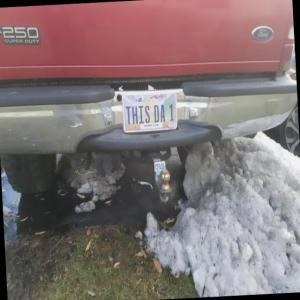Plate: (122, 92, 178, 134)
